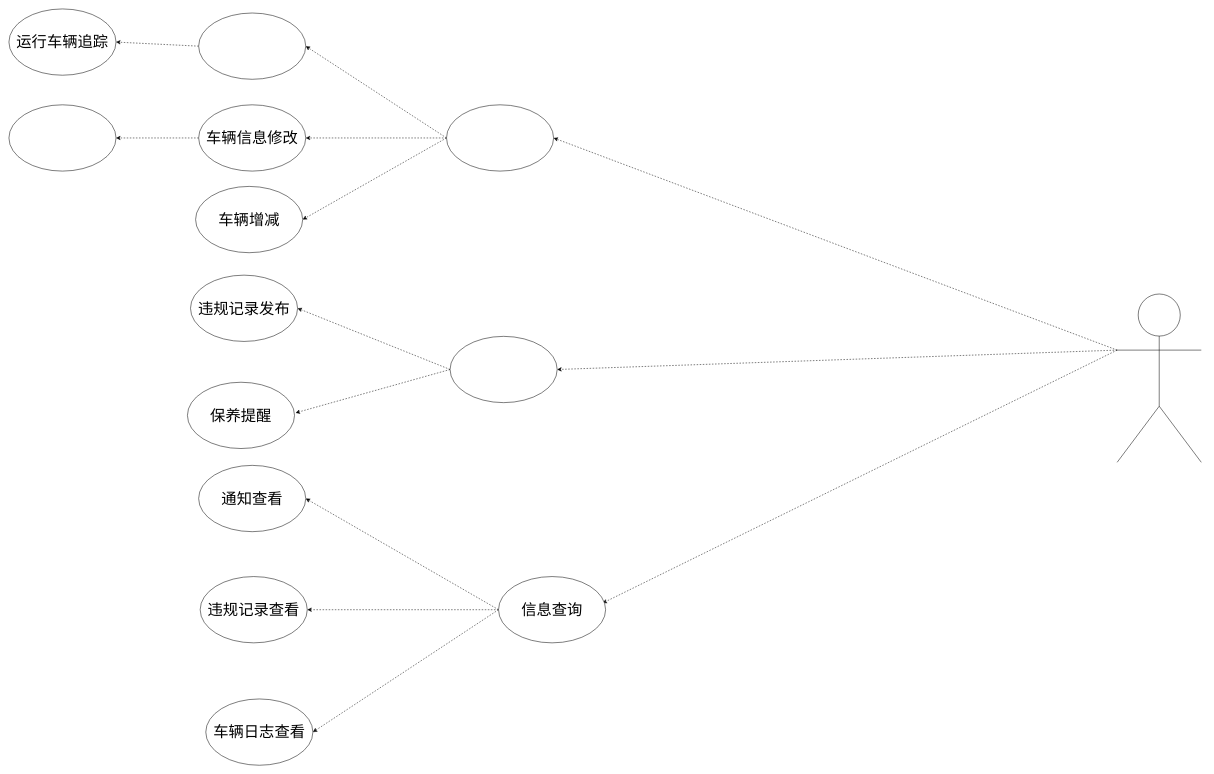
Some shapes in this 1214 by 774 pixel diagram are drawn without their labels. The shapes that lost their labels are listed below. From the top down, each one's centre as x and y in pixels, then its label:
the point at 252,45: 车辆状况查看
the point at 62,137: 车辆归还
the point at 500,137: 车辆管理
the point at 503,369: 通知发布
the point at 1159,378: 车辆管理部门
